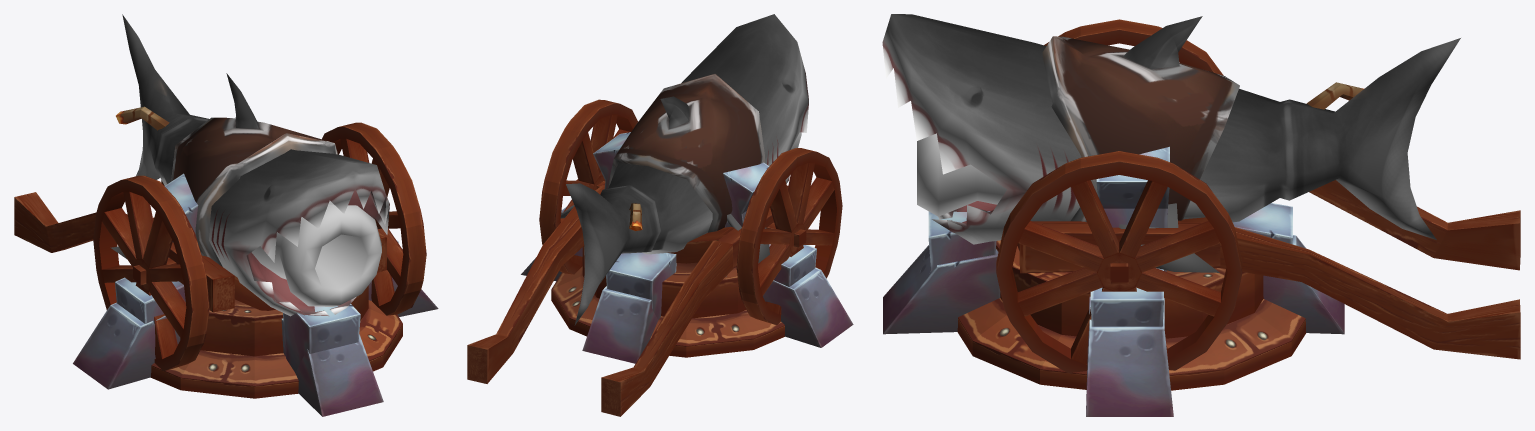
The model's file is cannon1.FBX.
3 renders of one model, left to right at view 1: azimuth 30°, elevation 25°; view 2: azimuth 150°, elevation 25°; view 3: azimuth 270°, elevation 25°, orthographic. The views are drawn at different scales.
Visible parts, largest first — view 1: Object014, Object009, Object034, Object023, Object028, Object004, Object006, Object036, Object037, Object010; view 2: Object014, Object009, Object028, Object034, Object004, Object006, Object036, Object037; view 3: Object009, Object014, Object028, Object034, Object004, Object006, Object036, Object023, Object037, Object010.
Part boxes in pixels (x1=…): Object014: x1=14, y1=122, x2=426, y2=370; Object009: x1=110, y1=14, x2=389, y2=316; Object034: x1=73, y1=277, x2=438, y2=416; Object023: x1=251, y1=200, x2=381, y2=306; Object028: x1=171, y1=117, x2=337, y2=266; Object004: x1=150, y1=300, x2=402, y2=398; Object006: x1=115, y1=240, x2=398, y2=372; Object036: x1=180, y1=285, x2=368, y2=356; Object037: x1=164, y1=173, x2=198, y2=242; Object010: x1=116, y1=106, x2=169, y2=130; Object014: x1=467, y1=99, x2=842, y2=416; Object009: x1=560, y1=14, x2=808, y2=325; Object028: x1=607, y1=74, x2=764, y2=232; Object034: x1=521, y1=247, x2=853, y2=363; Object004: x1=551, y1=266, x2=784, y2=357; Object006: x1=561, y1=206, x2=816, y2=320; Object036: x1=582, y1=246, x2=746, y2=318; Object037: x1=593, y1=132, x2=769, y2=227; Object009: x1=882, y1=14, x2=1460, y2=272; Object014: x1=996, y1=19, x2=1520, y2=374; Object028: x1=1042, y1=36, x2=1239, y2=222; Object034: x1=883, y1=235, x2=1344, y2=416; Object004: x1=957, y1=298, x2=1305, y2=390; Object006: x1=928, y1=203, x2=1292, y2=326; Object036: x1=996, y1=240, x2=1263, y2=338; Object023: x1=917, y1=133, x2=1006, y2=216; Object037: x1=1096, y1=146, x2=1169, y2=271; Object010: x1=1306, y1=82, x2=1363, y2=109.
Size of the model in its own units: 16.16 by 13.17 by 21.74.
